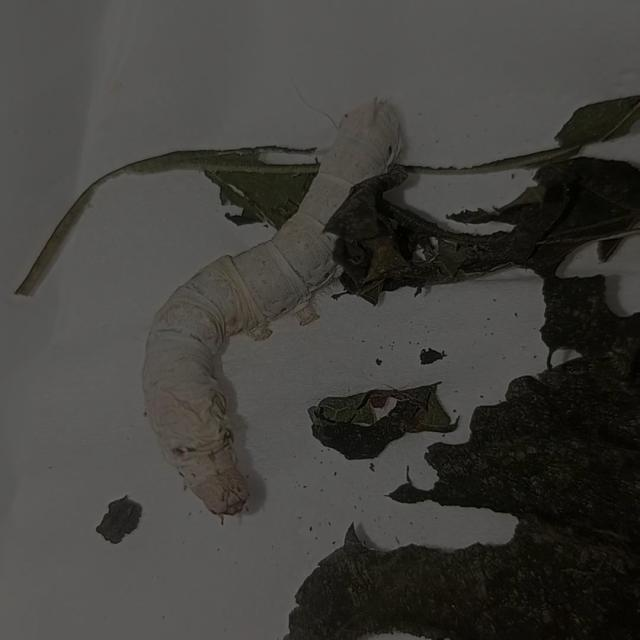Healthy: (129, 88, 414, 524)
